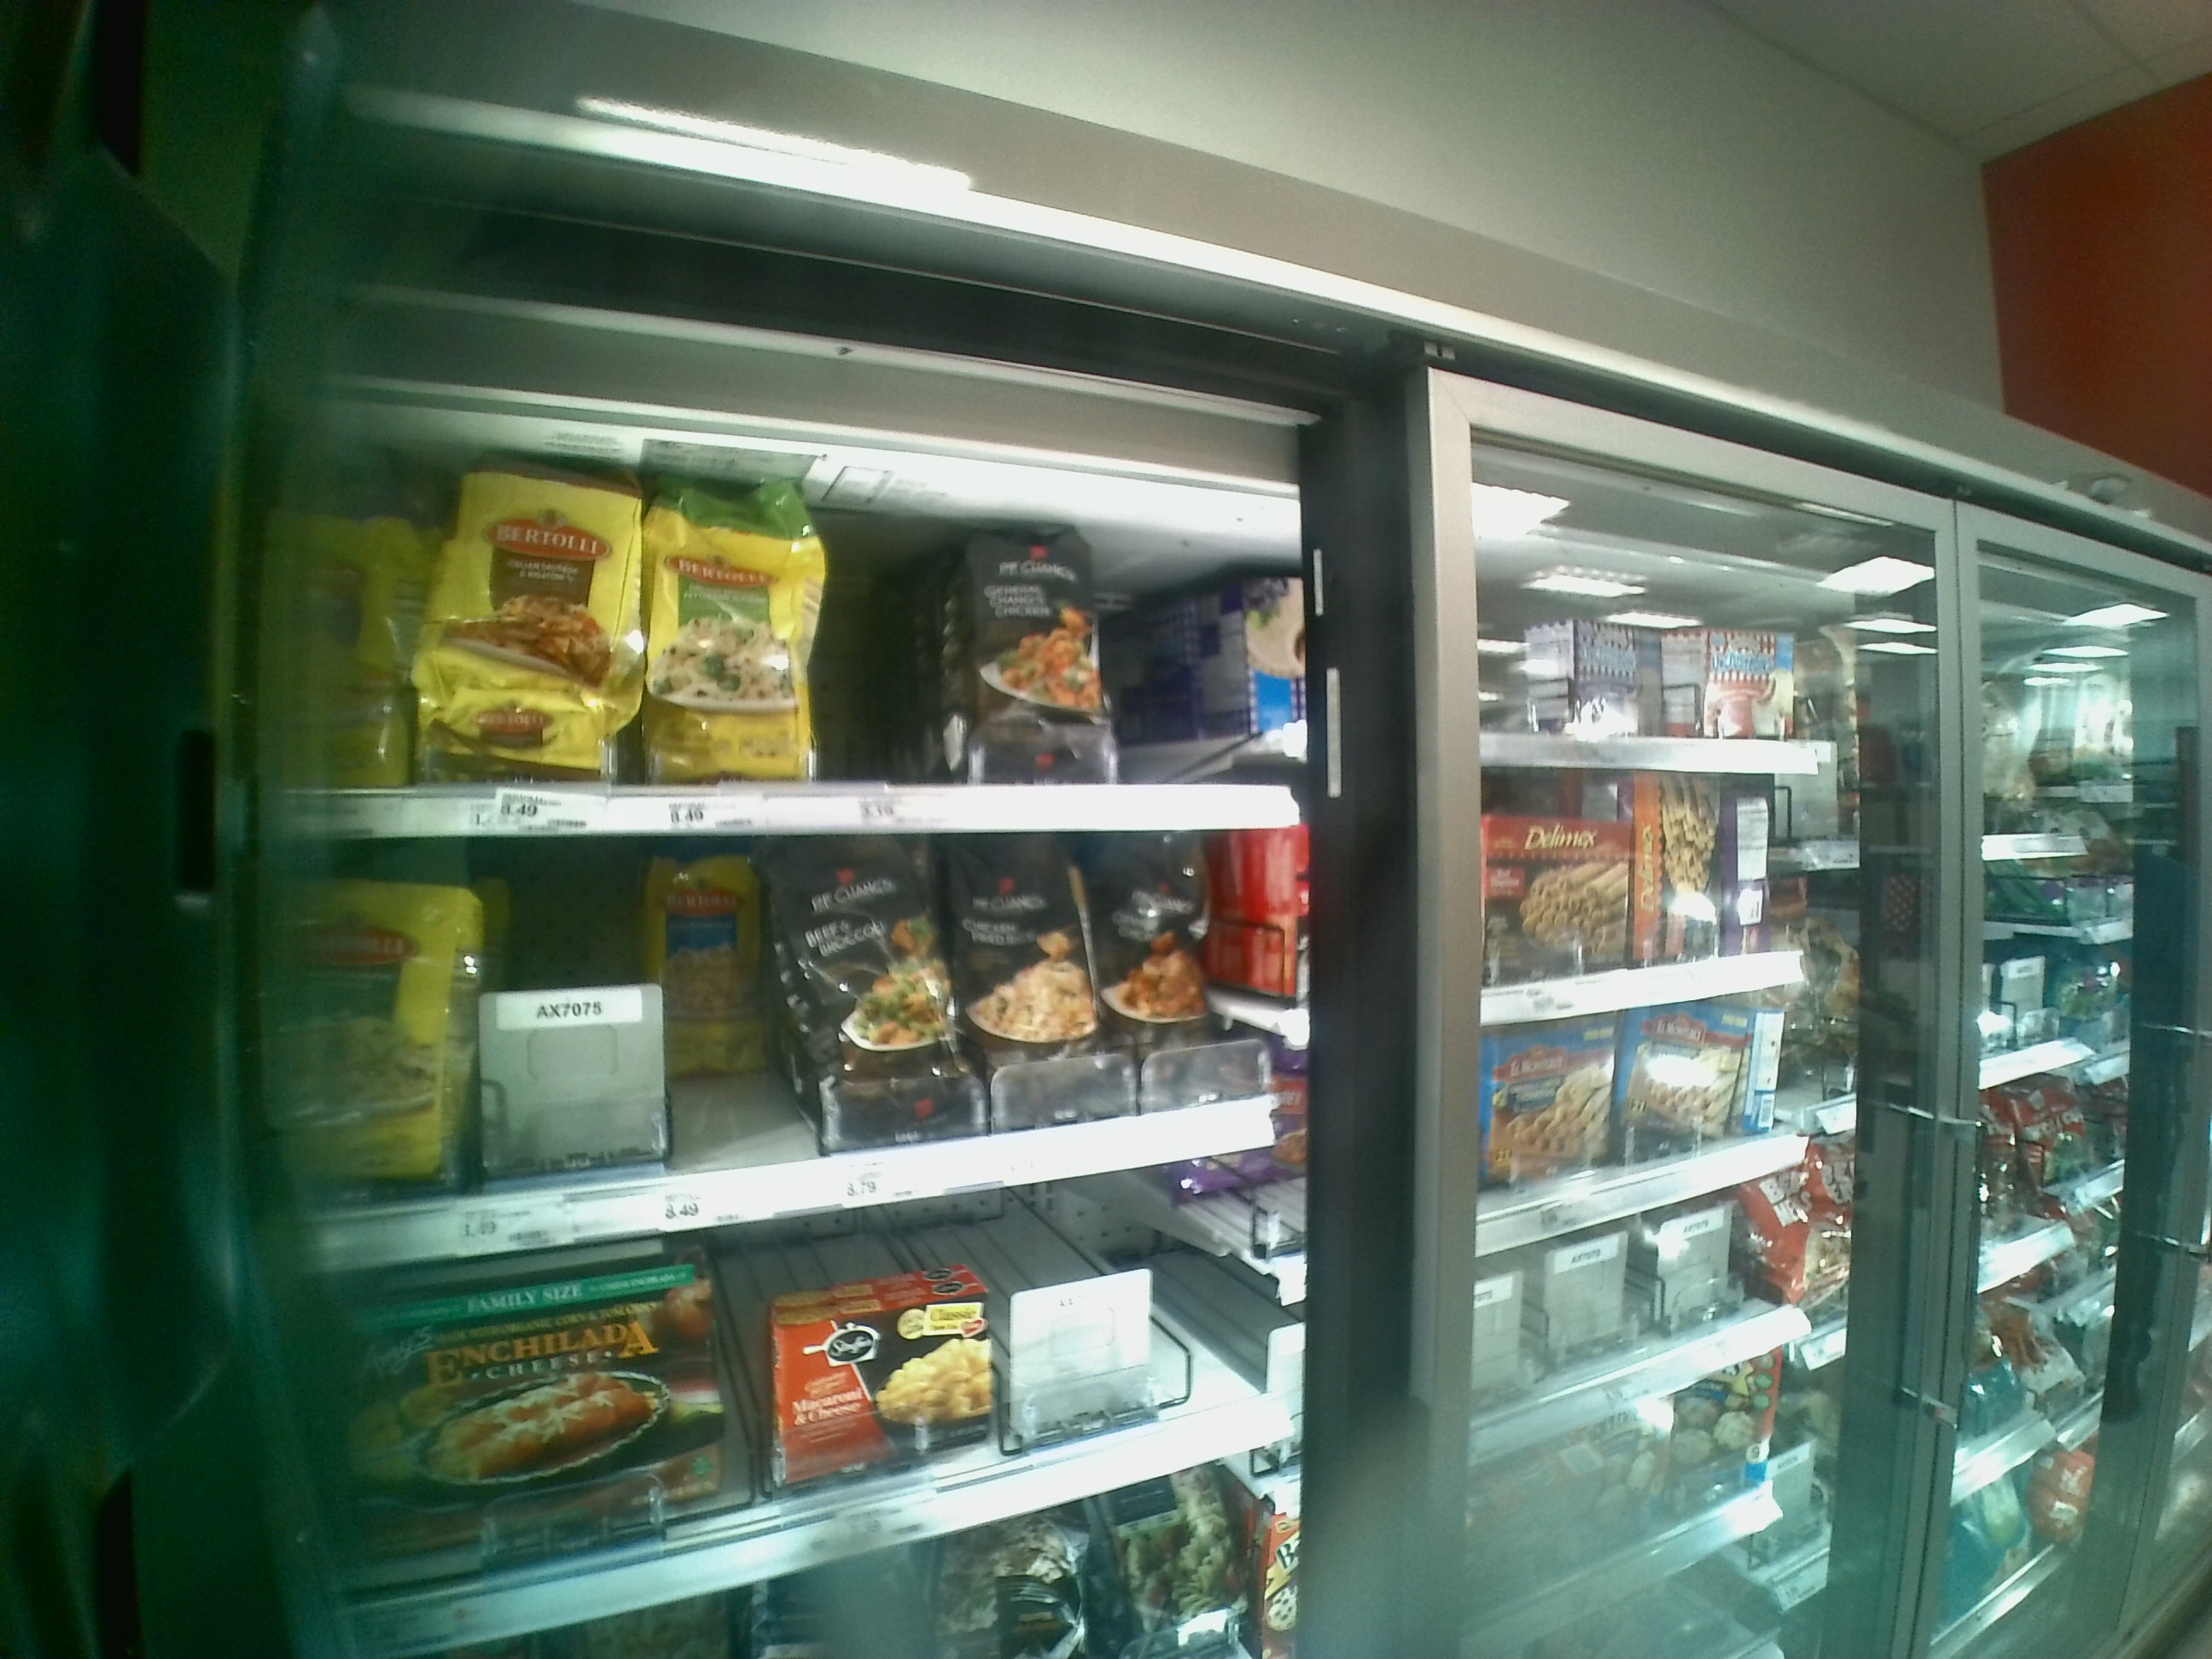shelf: (277, 831, 1289, 1237), (277, 450, 1301, 828), (300, 1218, 1303, 1595)
